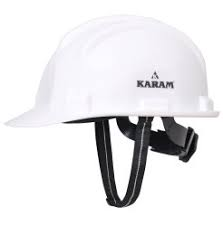Helmet: (6, 15, 205, 172)
